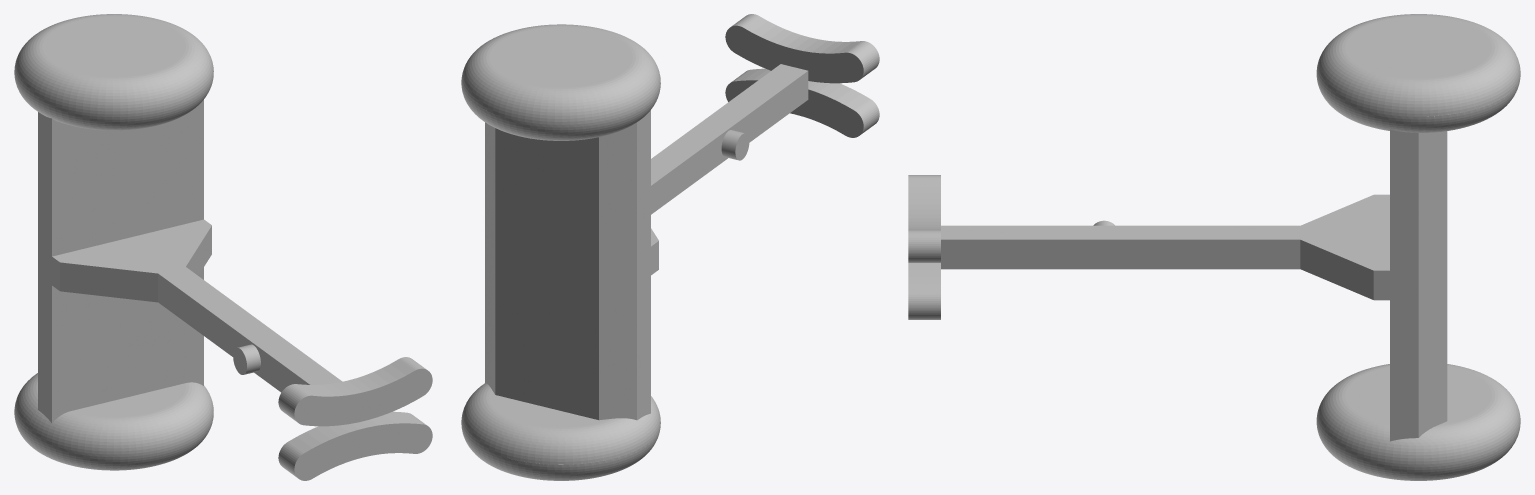
Rendered from ninebot_v2.dae.
The picture shows the model from 3 angles, left to right: view 1: azimuth 30°, elevation 25°; view 2: azimuth 150°, elevation 25°; view 3: azimuth 270°, elevation 25°; orthographic projection. The views are drawn at different scales.
Visible parts, largest first — view 1: node; view 2: node; view 3: node.
Part boxes in pixels (<box>): node: <box>14,14,432,480</box>; node: <box>461,14,879,480</box>; node: <box>908,14,1520,480</box>.
Bounding box in the file's own units: 25 × 54 × 75.
1 material, 1 textured.
